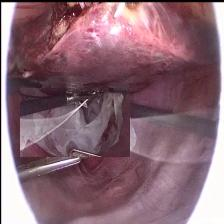Grasper: (22, 144, 83, 172), (41, 82, 84, 104)
Specimen Bag: (19, 87, 129, 156)
